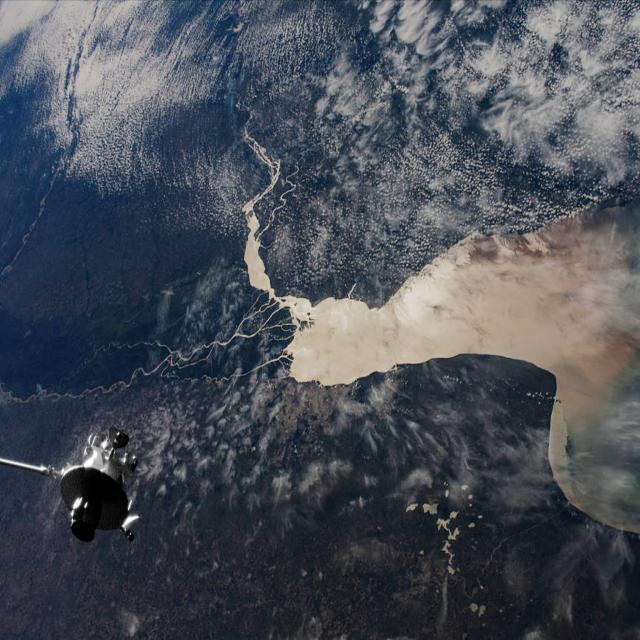satellite: (12, 418, 172, 548)
